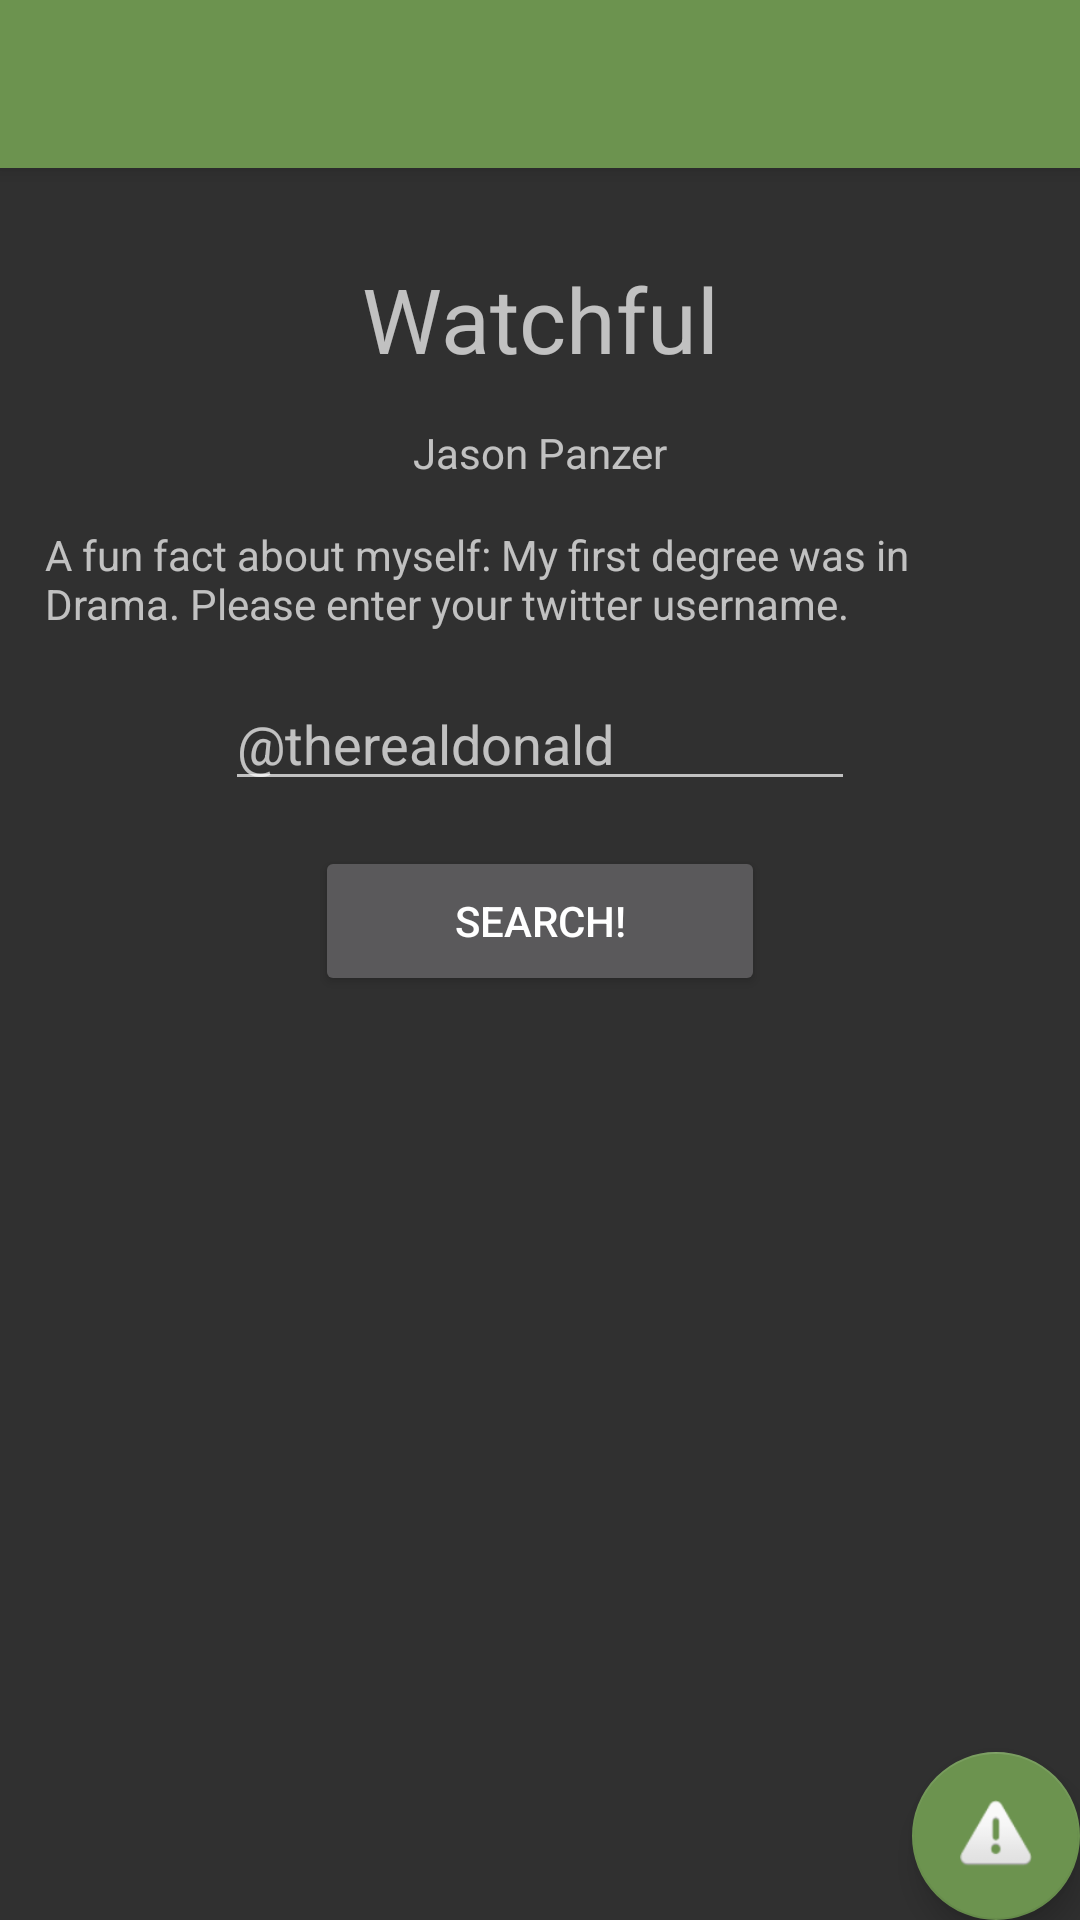

Where icons sit on this 1080*1920 app screen, as (x1=x1, y1=y1, x2=x2, y2=y2):
alert: (x1=912, y1=1752, x2=1080, y2=1920)
